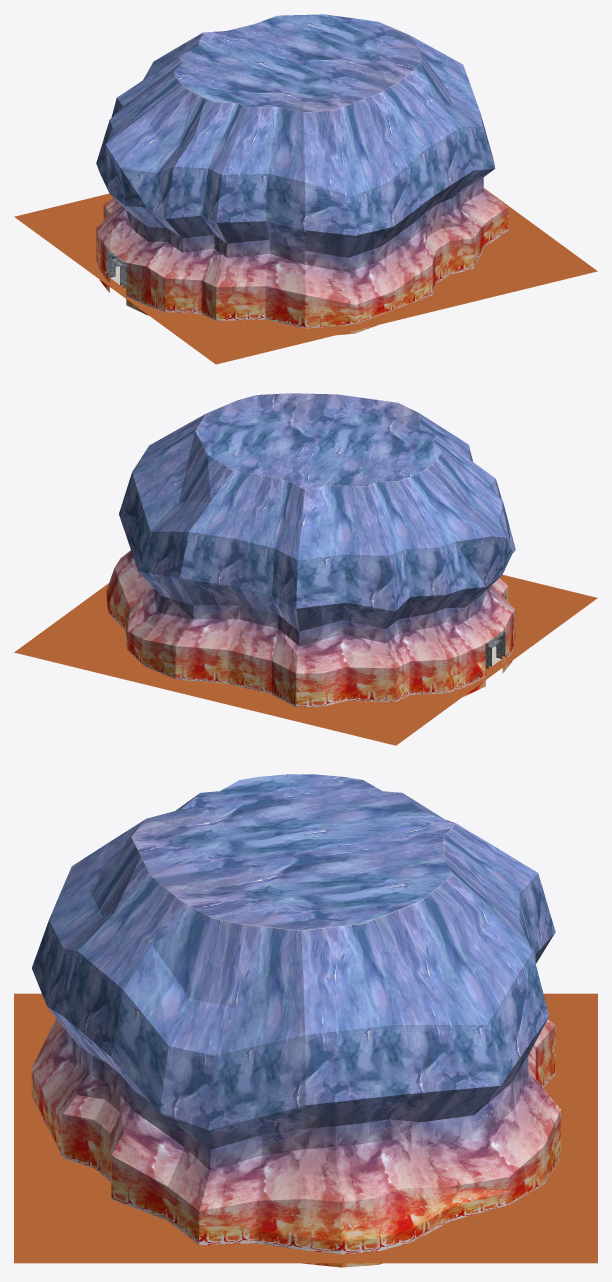
The model's file is Bomb Island (Room 2).dae.
3 views of the same model, one above another, from view 1: azimuth 30°, elevation 25°; view 2: azimuth 150°, elevation 25°; view 3: azimuth 270°, elevation 25° (orthographic). The views are drawn at different scales.
Visible parts, largest first — view 1: mesh-4, mesh-0, mesh-3; view 2: mesh-4, mesh-0, mesh-3; view 3: mesh-4, mesh-0.
Part boxes in pixels (x1,y1,x2,y2): mesh-4: (96,14,508,334); mesh-0: (14,188,597,364); mesh-3: (106,250,126,287); mesh-4: (106,393,515,706); mesh-0: (14,574,597,745); mesh-3: (485,631,505,668); mesh-4: (31,774,560,1267); mesh-0: (14,993,597,1263).
Size of the model in its own units: 6590 by 6000 by 3201.
6 materials, 6 textured.
